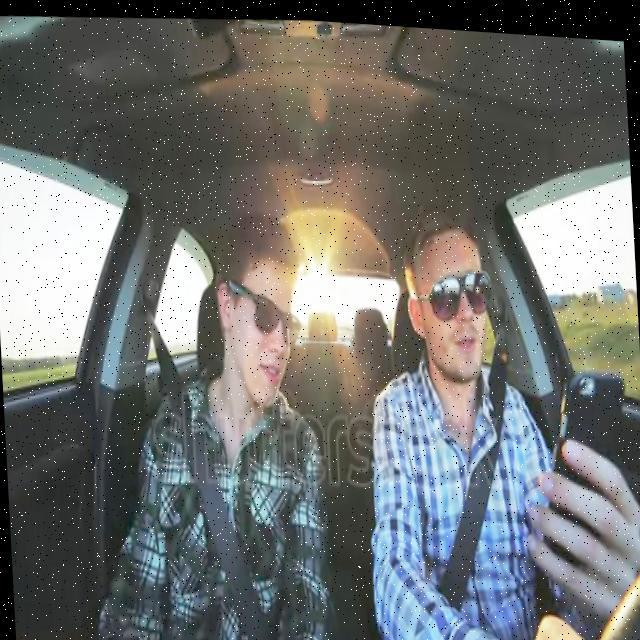PhoneCall: (538, 357, 633, 561)
